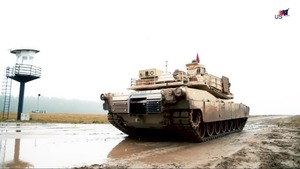abrams: (97, 64, 251, 140)
